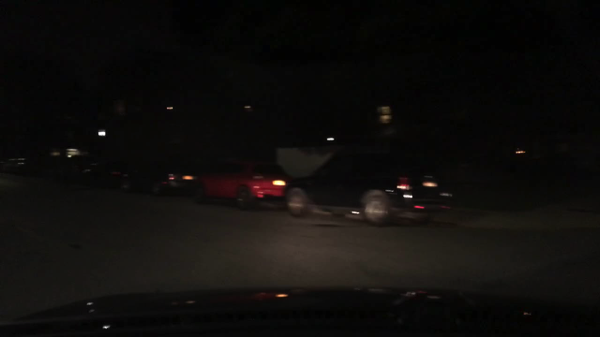car: (283, 139, 453, 227), (195, 157, 291, 209), (121, 155, 198, 195), (73, 152, 121, 188), (3, 157, 28, 174)
traffic sign: (377, 105, 391, 115), (380, 115, 392, 123)
